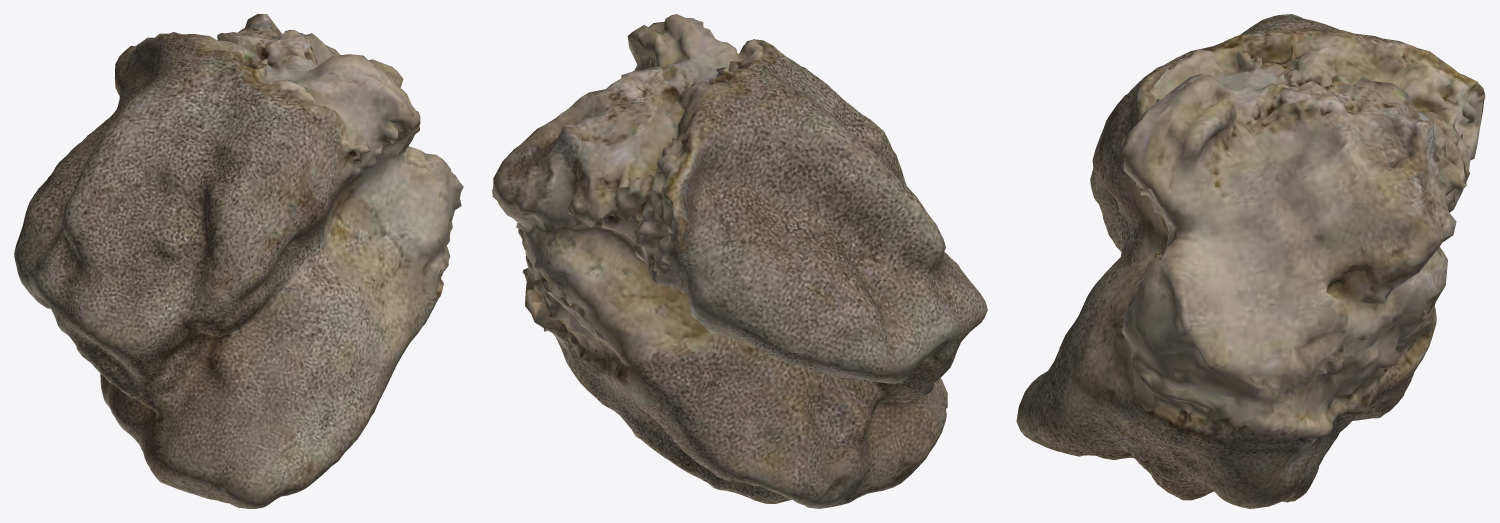
Rendered from porites_lobata.glb.
3 views of the same model, side by side, from view 1: azimuth 30°, elevation 25°; view 2: azimuth 150°, elevation 25°; view 3: azimuth 270°, elevation 25° (orthographic). The views are drawn at different scales.
Visible parts, largest first — view 1: mesh_0; view 2: mesh_0; view 3: mesh_0.
Part boxes in pixels (left/top/right/bottom): mesh_0: left=14, top=14, right=463, bottom=508; mesh_0: left=492, top=14, right=987, bottom=508; mesh_0: left=1016, top=14, right=1485, bottom=508.
Size of the model in its own units: 0.1039 by 0.0973 by 0.0891.
1 material, 1 textured.
